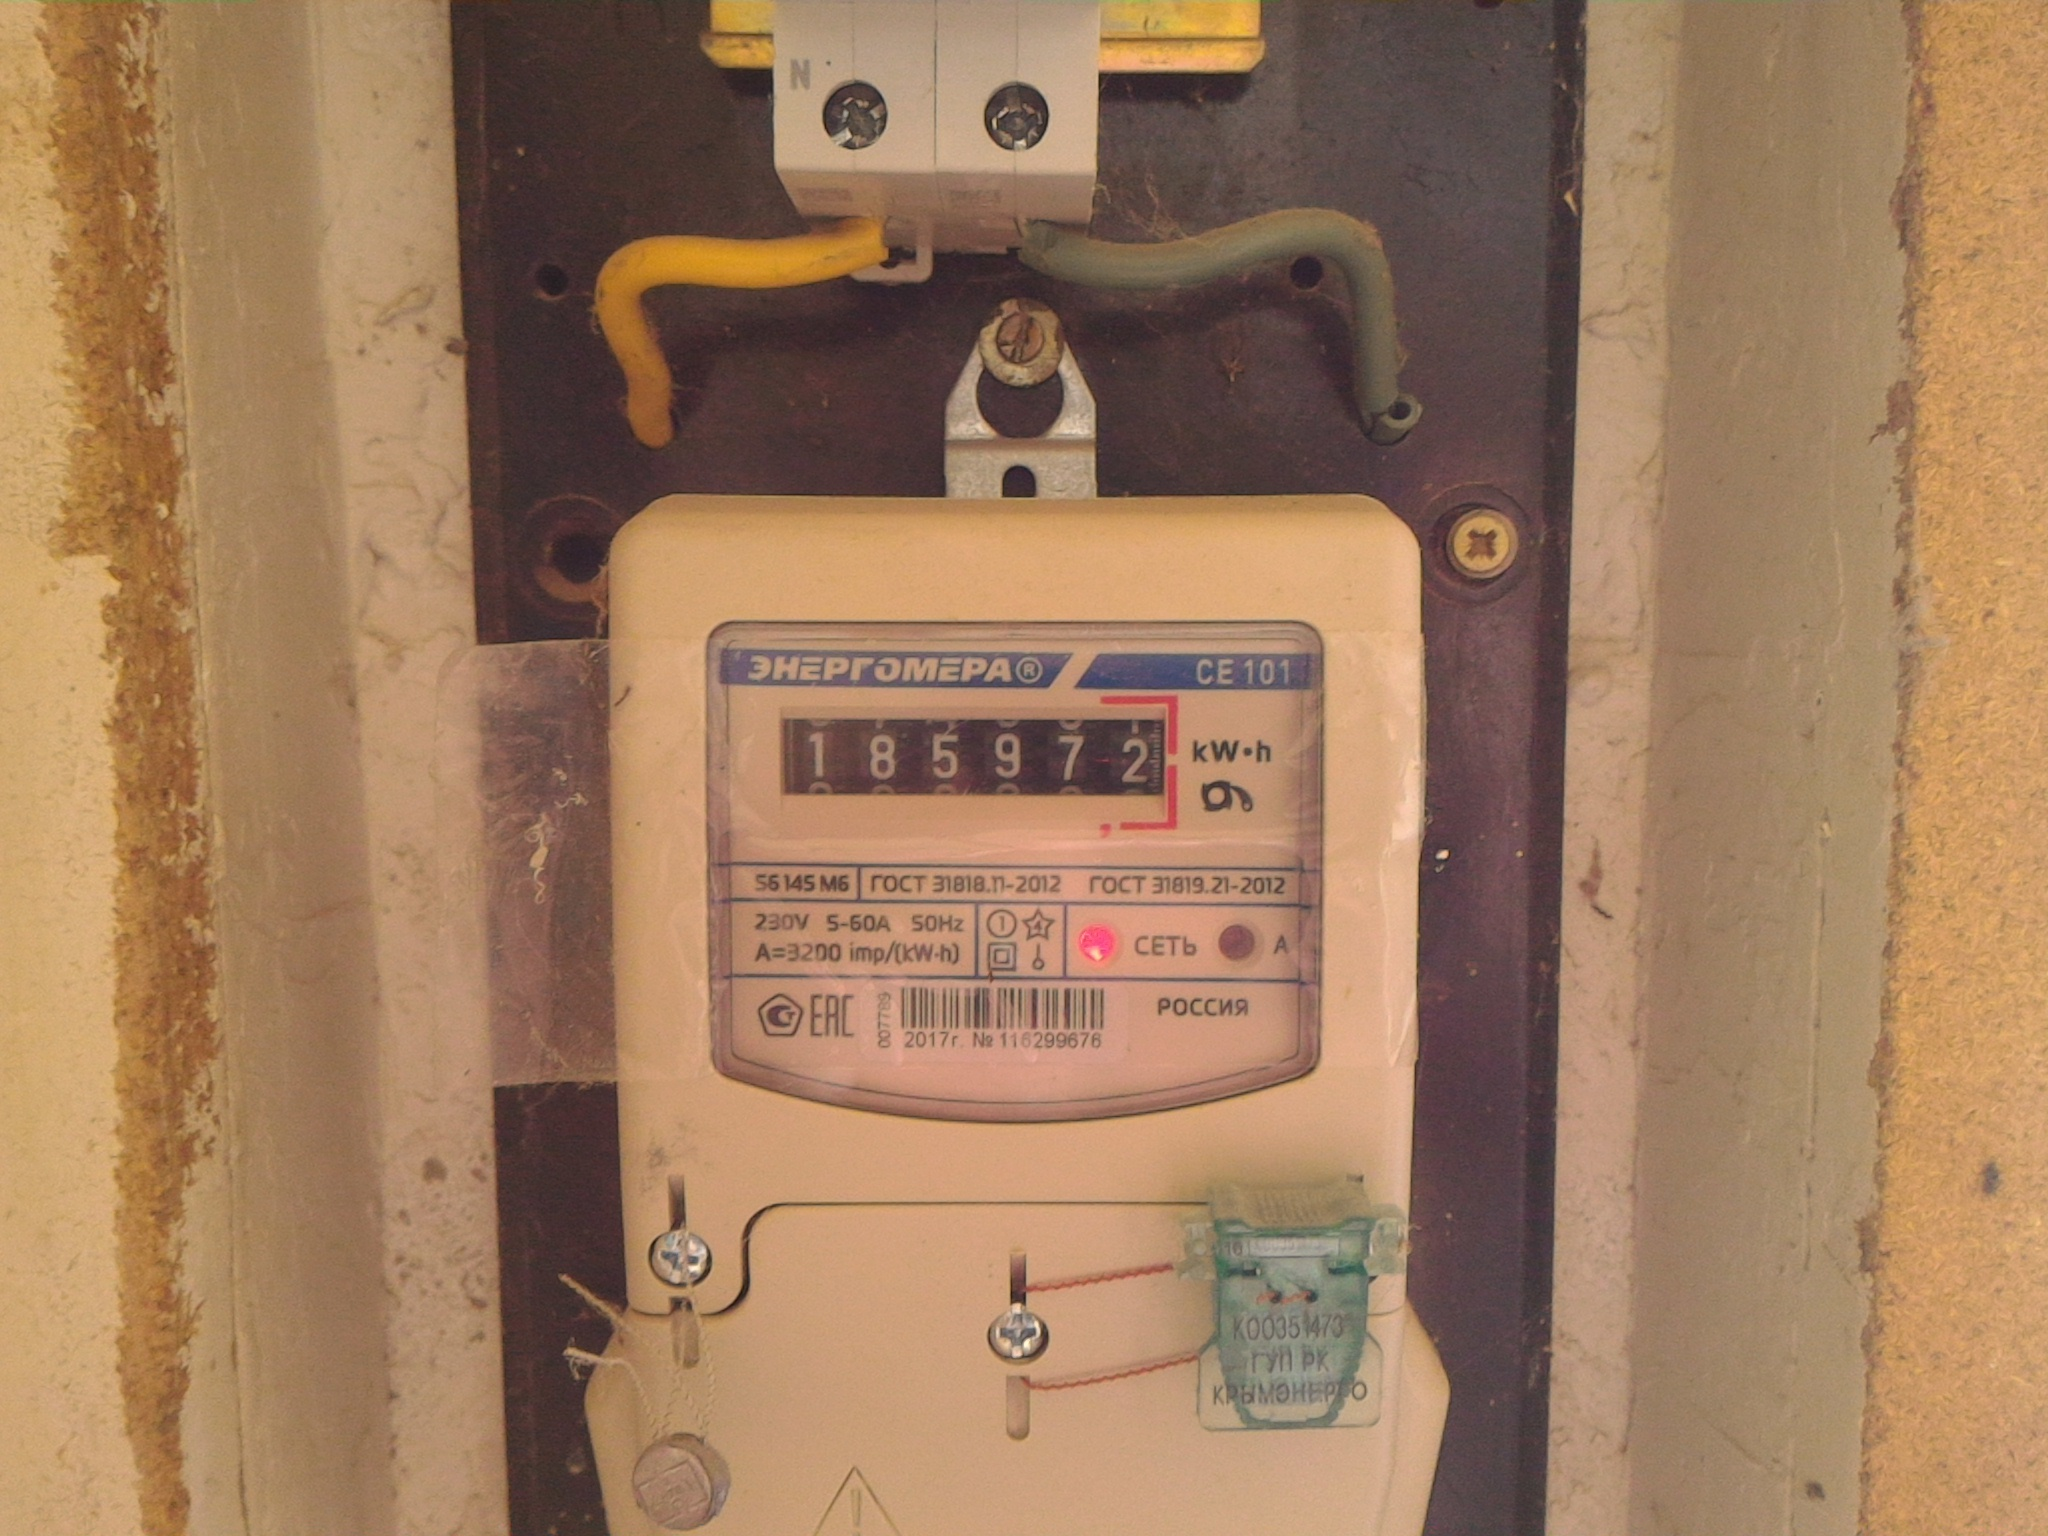1: (803, 728, 834, 779)
2: (1119, 736, 1153, 786)
5: (927, 729, 963, 783)
7: (1053, 731, 1089, 783)
8: (864, 729, 900, 783)
9: (989, 729, 1027, 781)
screen: (772, 705, 1177, 810)
